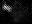person: (2, 1, 11, 9)
